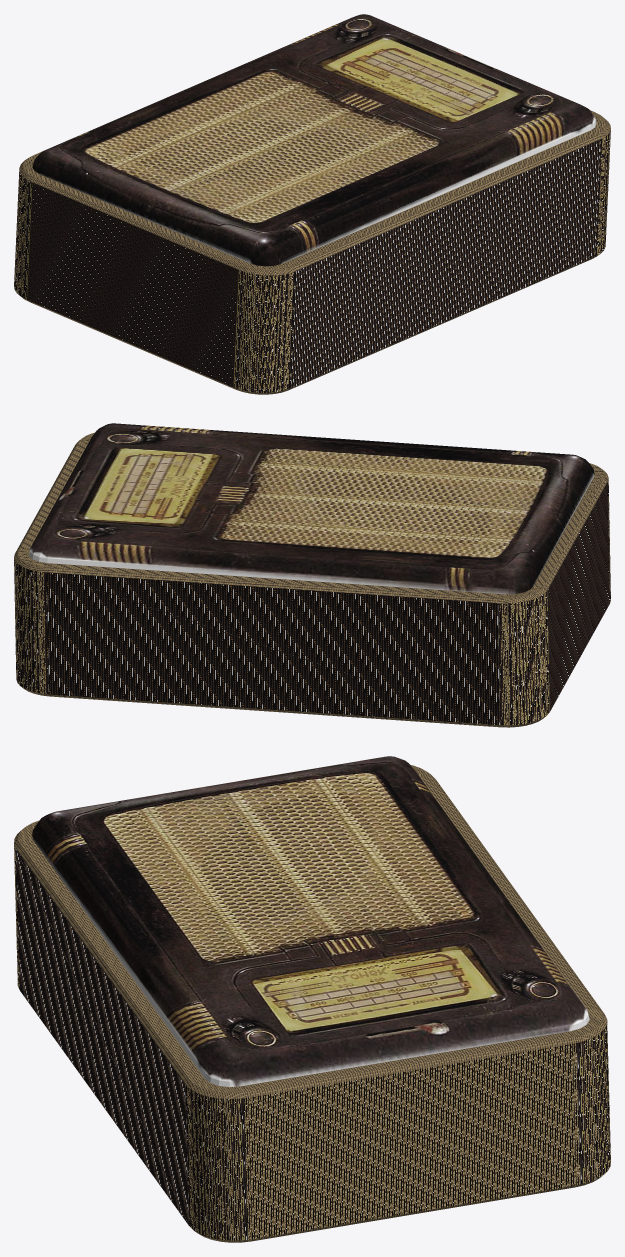
The model's file is radio.FBX.
3 views of the same model, one above another, from view 1: azimuth 30°, elevation 25°; view 2: azimuth 150°, elevation 25°; view 3: azimuth 270°, elevation 25° (orthographic). The views are drawn at different scales.
Visible parts, largest first — view 1: radio; view 2: radio; view 3: radio.
Part boxes in pixels (bbox=[...]): radio: bbox=[14, 14, 610, 394]; radio: bbox=[14, 423, 610, 727]; radio: bbox=[14, 756, 610, 1242].
Size of the model in its own units: 6.82 by 2.02 by 5.53.
